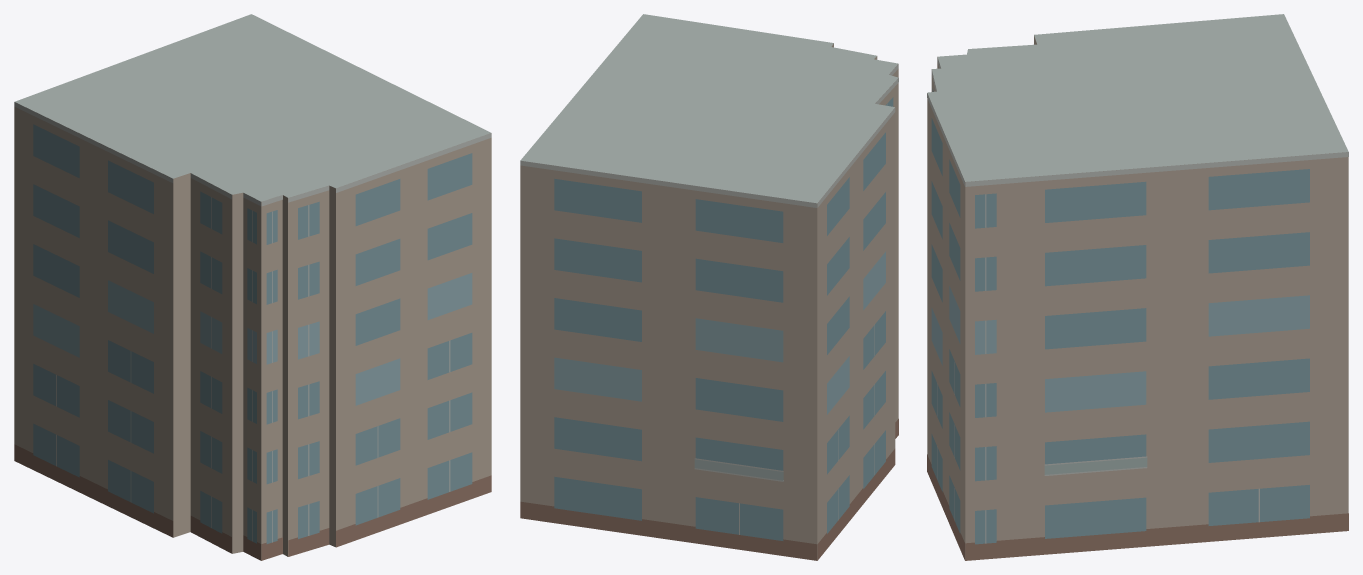
File: survey-upis-32832396.glb
3 views of the same model, side by side, from view 1: azimuth 30°, elevation 25°; view 2: azimuth 150°, elevation 25°; view 3: azimuth 270°, elevation 25° (orthographic). The views are drawn at different scales.
Parts seen in each view (by area): view 1: survey-upis-32832396.tmp; view 2: survey-upis-32832396.tmp; view 3: survey-upis-32832396.tmp.
Part boxes in pixels (x1,y1,x2,y2): survey-upis-32832396.tmp: [14, 14, 491, 560]; survey-upis-32832396.tmp: [520, 14, 898, 560]; survey-upis-32832396.tmp: [927, 14, 1348, 560].
Bounding box in the file's own units: 17.4 × 18.3 × 18.46.
